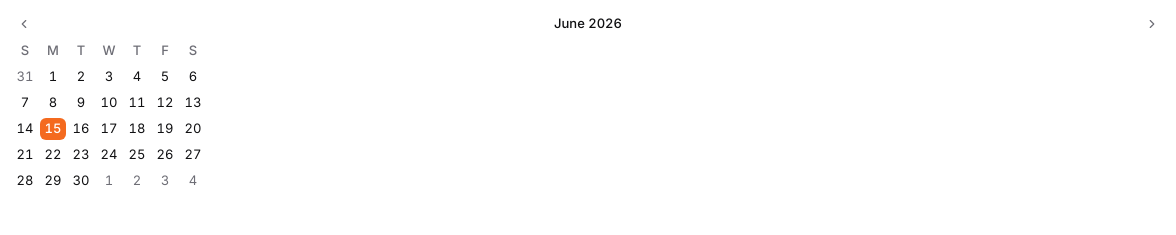
DatePicker (design.md §8.2b calendar grid) › navigates months with the chevrons
Click the button named "Next month": [1152, 24] box [1140,12,1164,36]
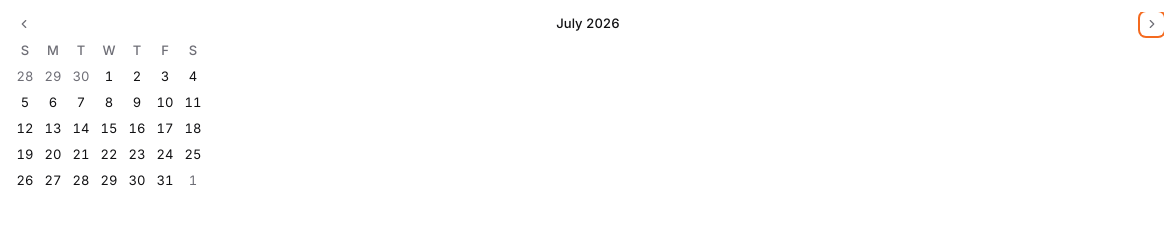
Result: the table named "July 2026" is shown at [12,40,206,192]
Click the button named "Previous month": [24, 24] box [12,12,36,36]
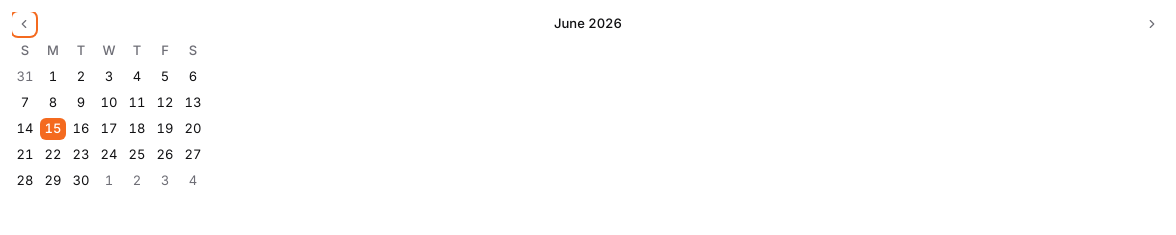
Click the button named "Previous month": [24, 24] box [12,12,36,36]
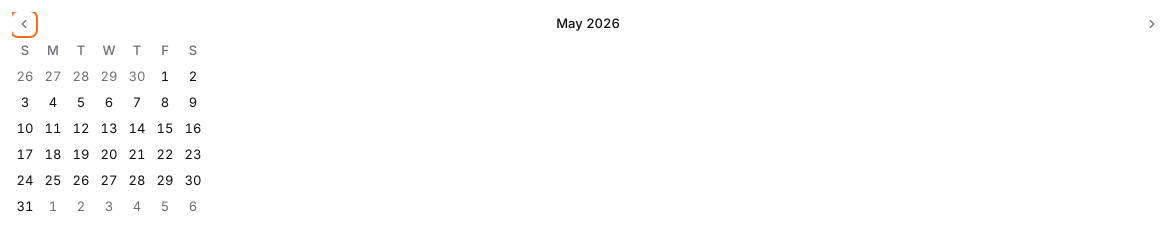
Result: the table named "May 2026" is shown at [12,40,206,218]
